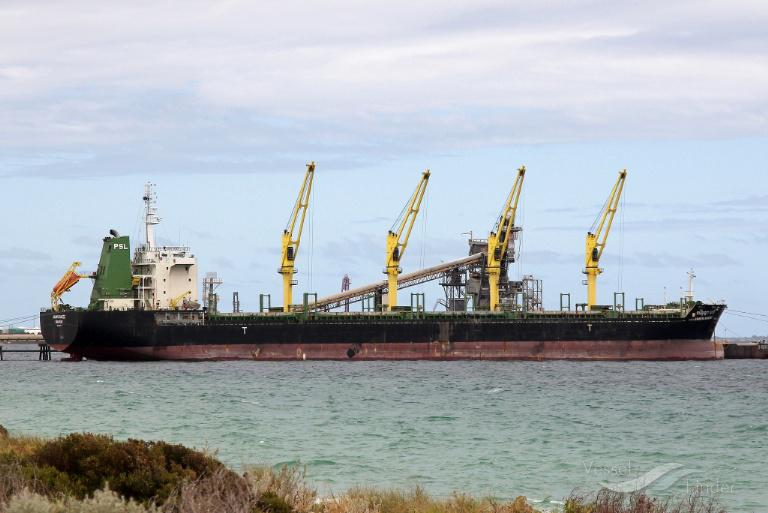OCR: (690, 309, 720, 327)
